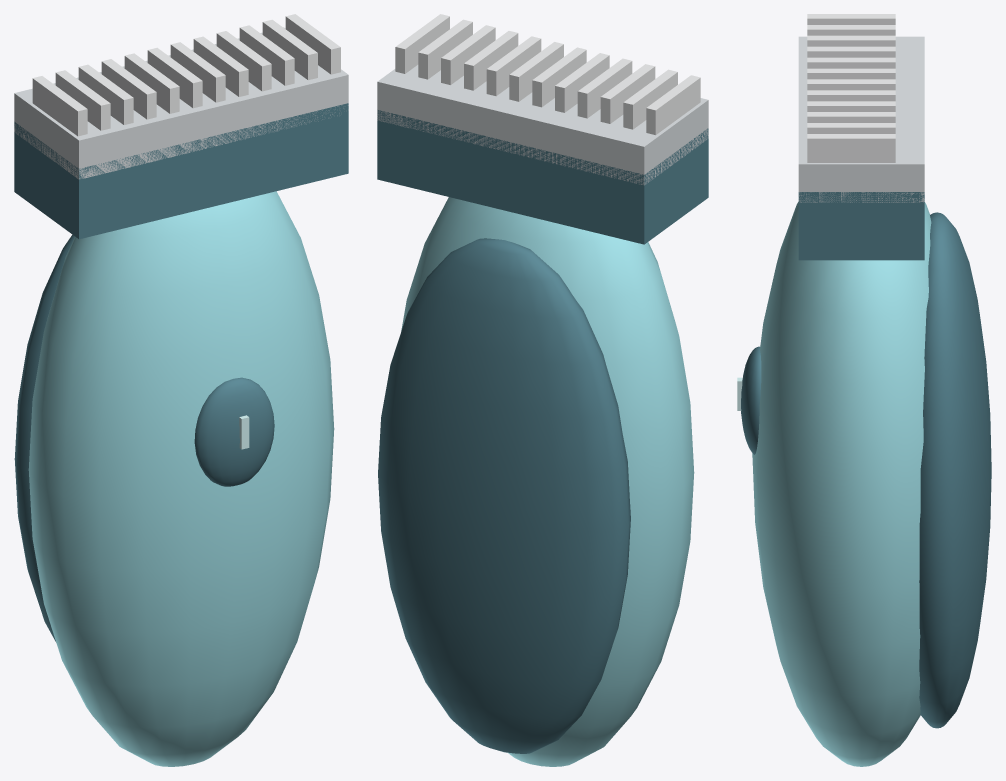
File: standard.glb
The picture shows the model from 3 angles, left to right: view 1: azimuth 30°, elevation 25°; view 2: azimuth 150°, elevation 25°; view 3: azimuth 270°, elevation 25°; orthographic projection. The views are drawn at different scales.
Parts seen in each view (by area): view 1: Grip, Blade_mount, Blade_plate, Power_button, Rubber_back, Tooth_0, Tooth_1, Tooth_6, Tooth_8, Tooth_2, Tooth_4, Tooth_10 (+5 smaller); view 2: Rubber_back, Grip, Blade_mount, Blade_plate, Tooth_0, Tooth_2, Tooth_7, Tooth_3, Tooth_11, Tooth_6, Tooth_1, Tooth_4 (+4 smaller); view 3: Grip, Rubber_back, Blade_plate, Blade_mount, Tooth_11, Power_button, Tooth_2, Tooth_3, Tooth_4, Tooth_5, Tooth_6, Tooth_7 (+5 smaller).
Boxes of the visible parts, x1,y1,x2,y2 form: Grip: (28, 191, 334, 766); Blade_mount: (14, 103, 348, 239); Blade_plate: (14, 27, 348, 179); Power_button: (194, 377, 274, 486); Rubber_back: (14, 234, 74, 641); Tooth_0: (32, 76, 87, 136); Tooth_1: (55, 70, 110, 130); Tooth_6: (170, 42, 225, 102); Tooth_8: (216, 31, 271, 91); Tooth_2: (78, 64, 133, 124); Tooth_4: (124, 53, 179, 113); Tooth_10: (262, 19, 317, 80); Rubber_back: (378, 238, 630, 753); Grip: (401, 197, 694, 766); Blade_mount: (377, 110, 708, 244); Blade_plate: (377, 65, 708, 185); Tooth_0: (646, 75, 700, 135); Tooth_2: (600, 64, 655, 123); Tooth_7: (486, 36, 541, 96); Tooth_3: (577, 58, 632, 118); Tooth_11: (395, 14, 449, 73); Tooth_6: (509, 42, 563, 101); Tooth_1: (623, 69, 677, 129); Tooth_4: (555, 53, 609, 112); Grip: (752, 202, 931, 766); Rubber_back: (919, 212, 991, 728); Blade_plate: (798, 36, 924, 202); Blade_mount: (798, 192, 924, 260); Tooth_11: (807, 134, 895, 162); Power_button: (741, 346, 761, 454); Tooth_2: (807, 35, 895, 46); Tooth_3: (807, 46, 895, 57); Tooth_4: (807, 57, 895, 68); Tooth_5: (807, 68, 895, 79); Tooth_6: (807, 79, 895, 90); Tooth_7: (807, 90, 895, 101).
Size of the model in its own units: 0.38 by 0.898 by 0.303.
